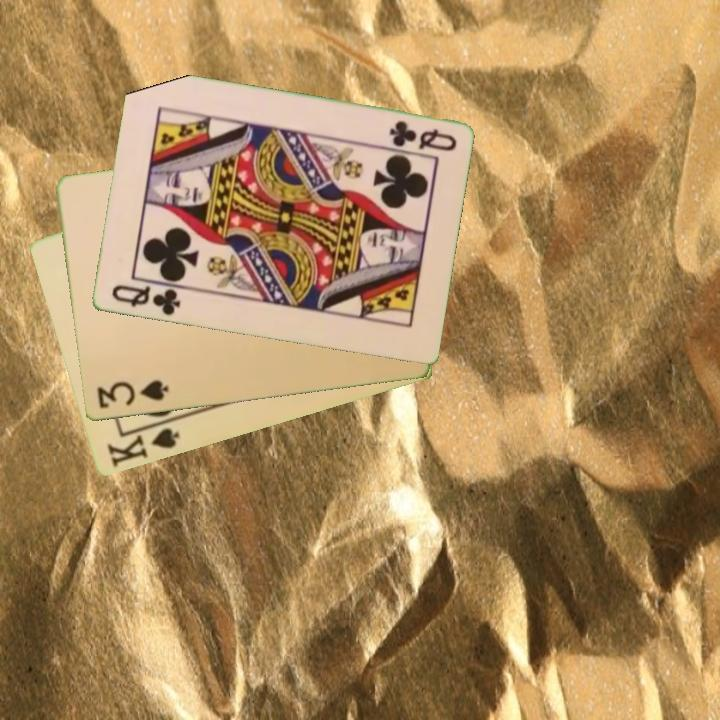3s: (93, 376, 171, 412)
Ks: (103, 424, 182, 471)
Qc: (108, 281, 188, 319), (385, 117, 459, 155)
